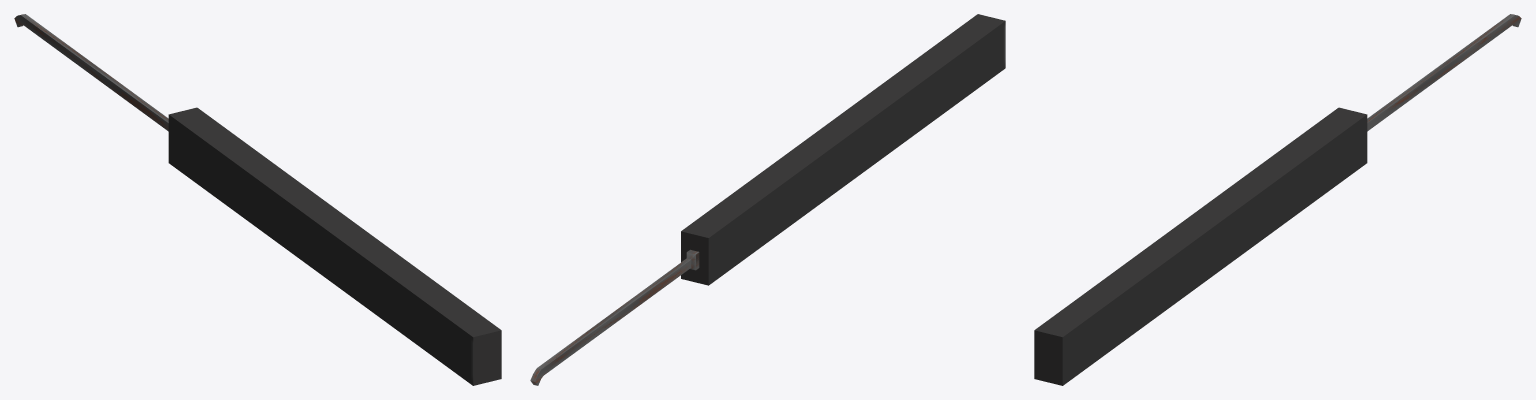
Rendered from lockpick.fbx.
3 renders of one model, left to right at view 1: azimuth 30°, elevation 25°; view 2: azimuth 150°, elevation 25°; view 3: azimuth 330°, elevation 25°, orthographic. The views are drawn at different scales.
Visible parts, largest first — view 1: lockpick; view 2: lockpick; view 3: lockpick.
Boxes of the visible parts, <box> form: lockpick: <box>14,14,501,385</box>; lockpick: <box>530,14,1005,385</box>; lockpick: <box>1034,14,1521,385</box>.
Size of the model in its own units: 27 by 44.09 by 772.
1 material, 1 textured.
